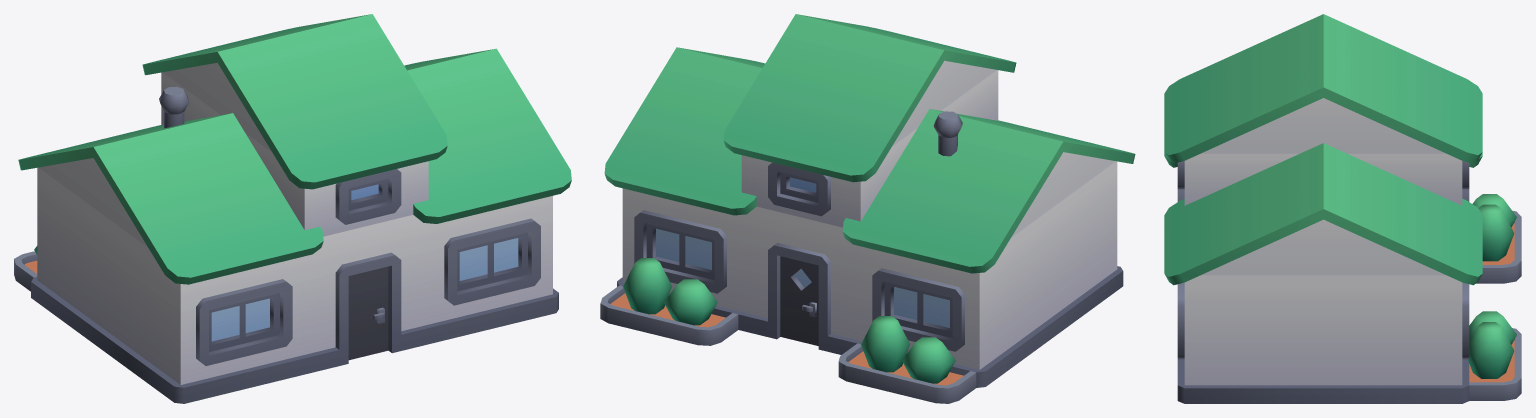
The model's file is building-type-a.glb.
The picture shows the model from 3 angles, left to right: view 1: azimuth 30°, elevation 25°; view 2: azimuth 150°, elevation 25°; view 3: azimuth 270°, elevation 25°; orthographic projection. The views are drawn at different scales.
Visible parts, largest first — view 1: building-type-a; view 2: building-type-a; view 3: building-type-a.
Part boxes in pixels (bbox=[...]): building-type-a: bbox=[14, 14, 571, 403]; building-type-a: bbox=[600, 14, 1135, 403]; building-type-a: bbox=[1164, 14, 1521, 403].
Size of the model in its own units: 1.3 by 0.8336 by 1.03.
1 material, 1 textured.
